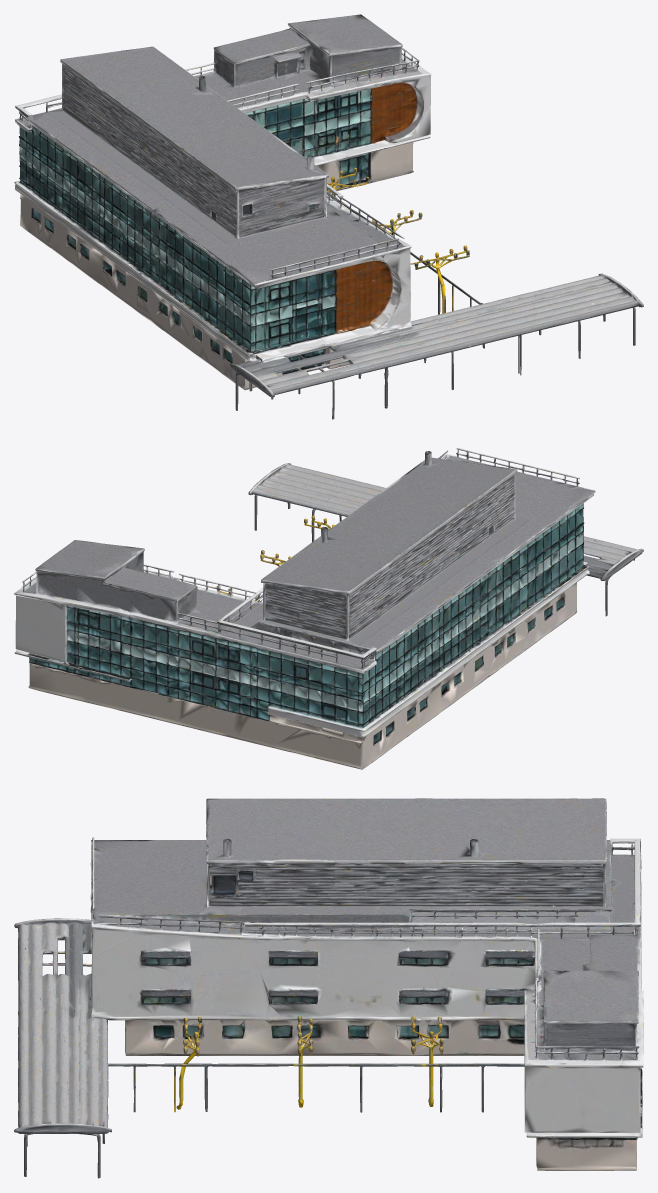
File: ou_campus.glb
3 renders of one model, top to bottom at view 1: azimuth 30°, elevation 25°; view 2: azimuth 150°, elevation 25°; view 3: azimuth 270°, elevation 25°, orthographic. The views are drawn at different scales.
Bounding box in the file's own units: 1.55 × 0.7004 × 1.94.
1 material, 1 textured.
